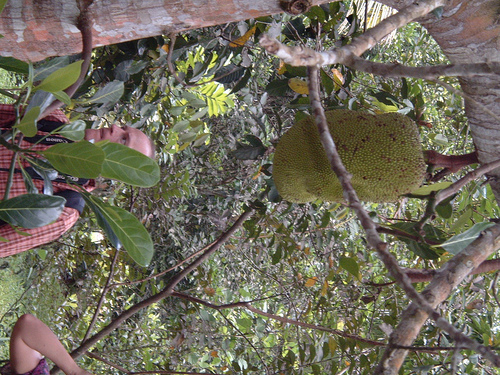jackfruit: (269, 105, 426, 207)
